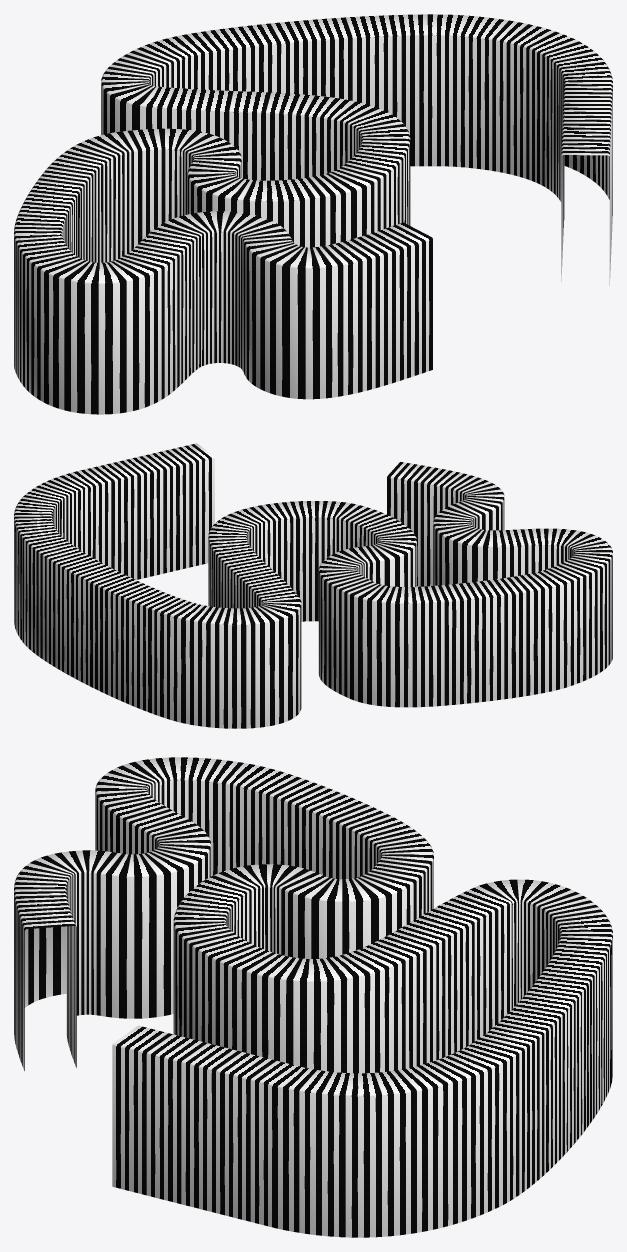
Rendered from Track.fbx.
The picture shows the model from 3 angles, top to bottom: view 1: azimuth 30°, elevation 25°; view 2: azimuth 150°, elevation 25°; view 3: azimuth 270°, elevation 25°; orthographic projection. The views are drawn at different scales.
Visible parts, largest first — view 1: Track_Mesh; view 2: Track_Mesh; view 3: Track_Mesh.
Part boxes in pixels (x1,y1,x2,y2): Track_Mesh: (14, 14, 612, 414); Track_Mesh: (14, 443, 612, 728); Track_Mesh: (14, 757, 612, 1237).
Size of the model in its own units: 76.2 by 15 by 57.04.
Materials: 1 (1 with a texture image).
